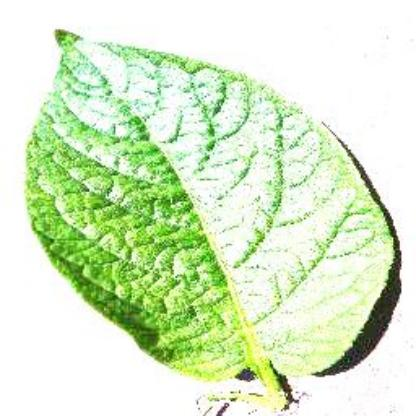Healthy-plant: (27, 12, 403, 410)
